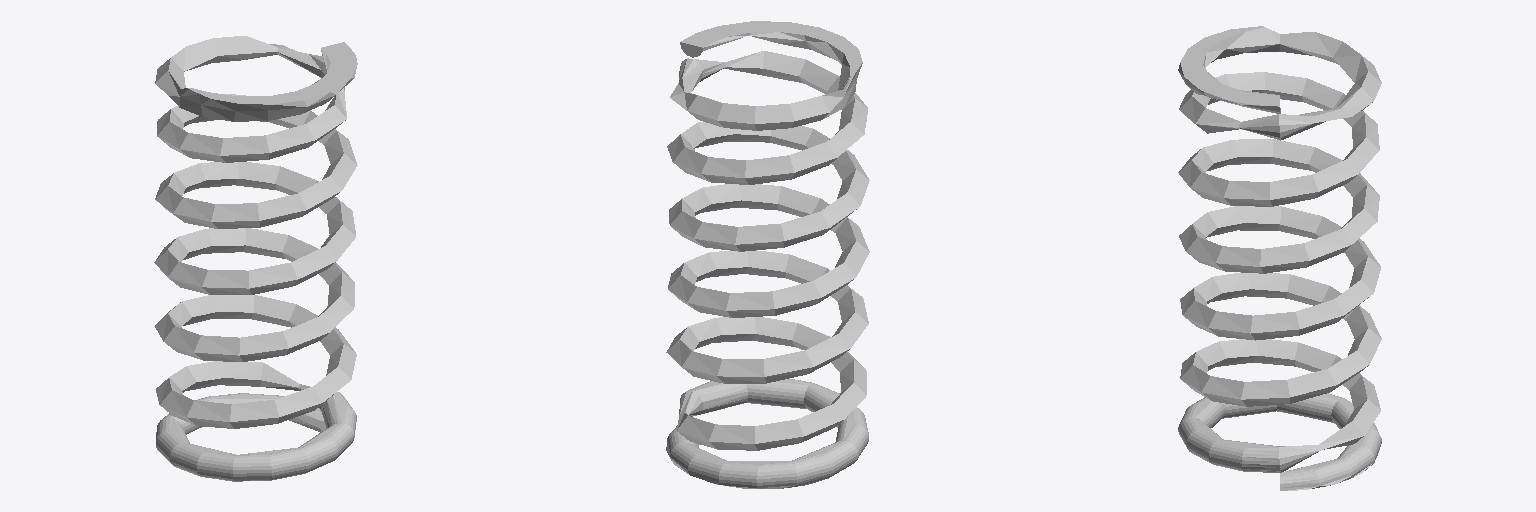
Rendered from spring.obj.
3 views of the same model, side by side, from view 1: azimuth 30°, elevation 25°; view 2: azimuth 150°, elevation 25°; view 3: azimuth 270°, elevation 25° (orthographic).
Parts seen in each view (by area): view 1: mesh 1 9002T110; view 2: mesh 1 9002T110; view 3: mesh 1 9002T110.
Part boxes in pixels (bbox=[...]): mesh 1 9002T110: bbox=[154, 36, 357, 481]; mesh 1 9002T110: bbox=[666, 21, 869, 488]; mesh 1 9002T110: bbox=[1178, 26, 1381, 490].
Size of the model in its own units: 0.003 by 0.0063 by 0.003.